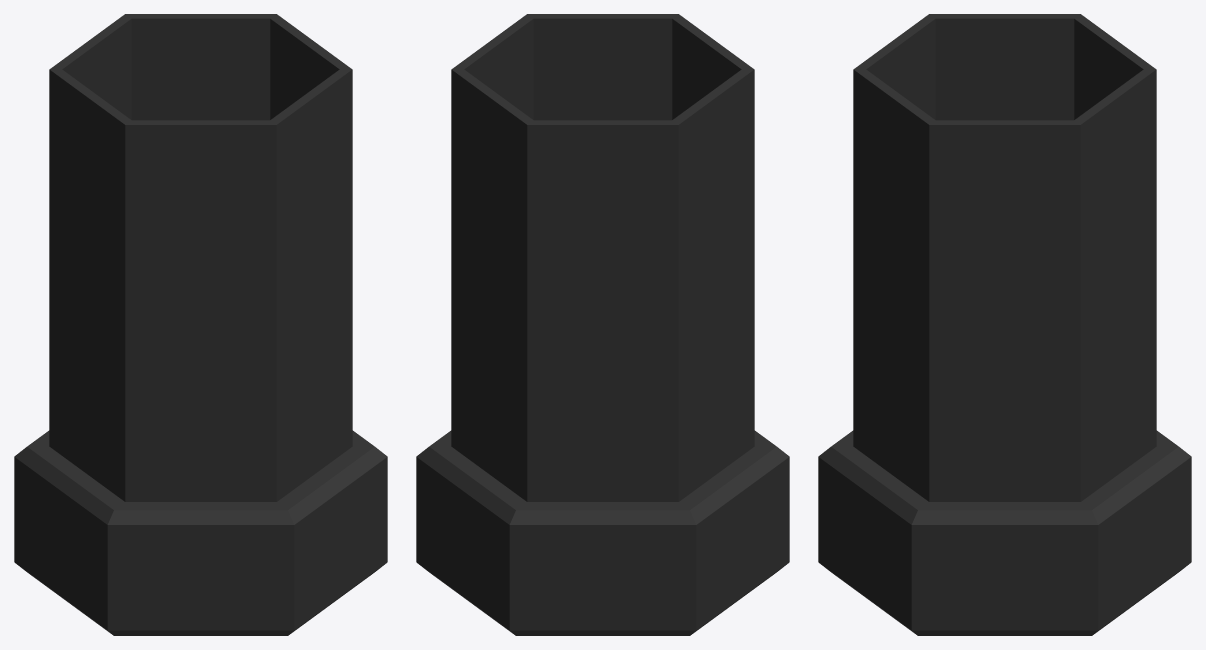
The model's file is HJD_SFB_Pipe_01.fbx.
The picture shows the model from 3 angles, left to right: view 1: azimuth 30°, elevation 25°; view 2: azimuth 150°, elevation 25°; view 3: azimuth 270°, elevation 25°; orthographic projection.
Visible parts, largest first — view 1: HJD_SFB_Asset; view 2: HJD_SFB_Asset; view 3: HJD_SFB_Asset.
Part boxes in pixels (bbox=[...]): HJD_SFB_Asset: bbox=[14, 14, 387, 635]; HJD_SFB_Asset: bbox=[416, 14, 789, 635]; HJD_SFB_Asset: bbox=[818, 14, 1191, 635].
Size of the model in its own units: 58.3 by 100 by 67.32.
